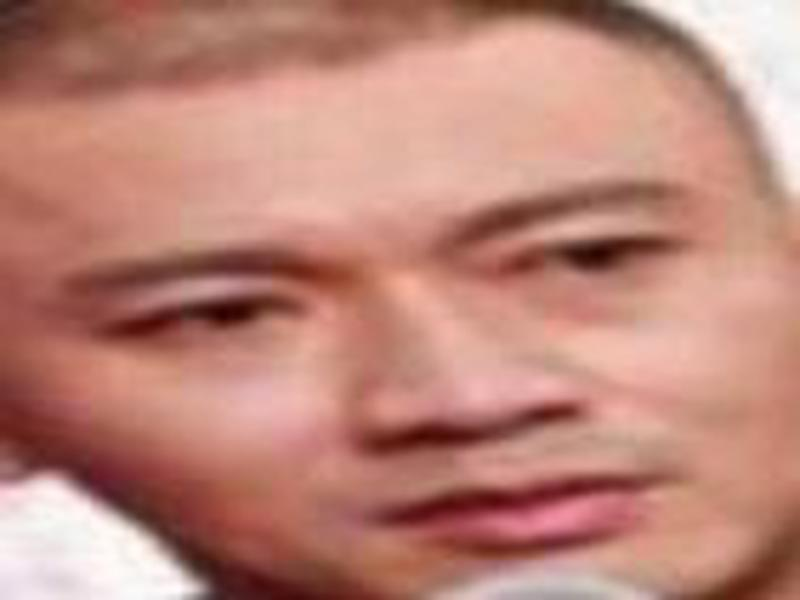without_mask: (16, 65, 785, 584)
